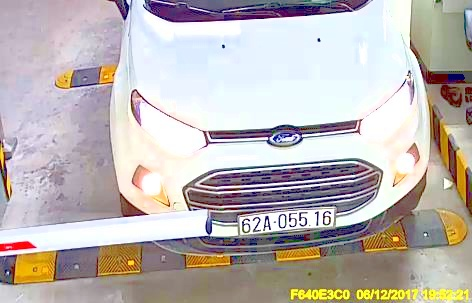plate: (232, 207, 339, 234)
